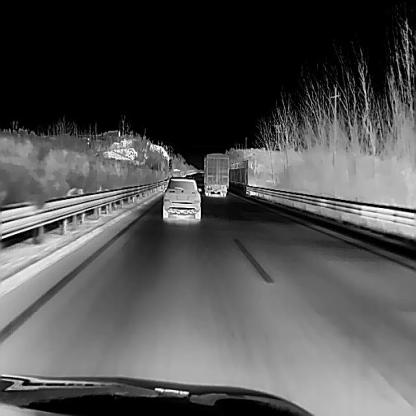car: (160, 174, 200, 218)
truck: (201, 151, 229, 196)
